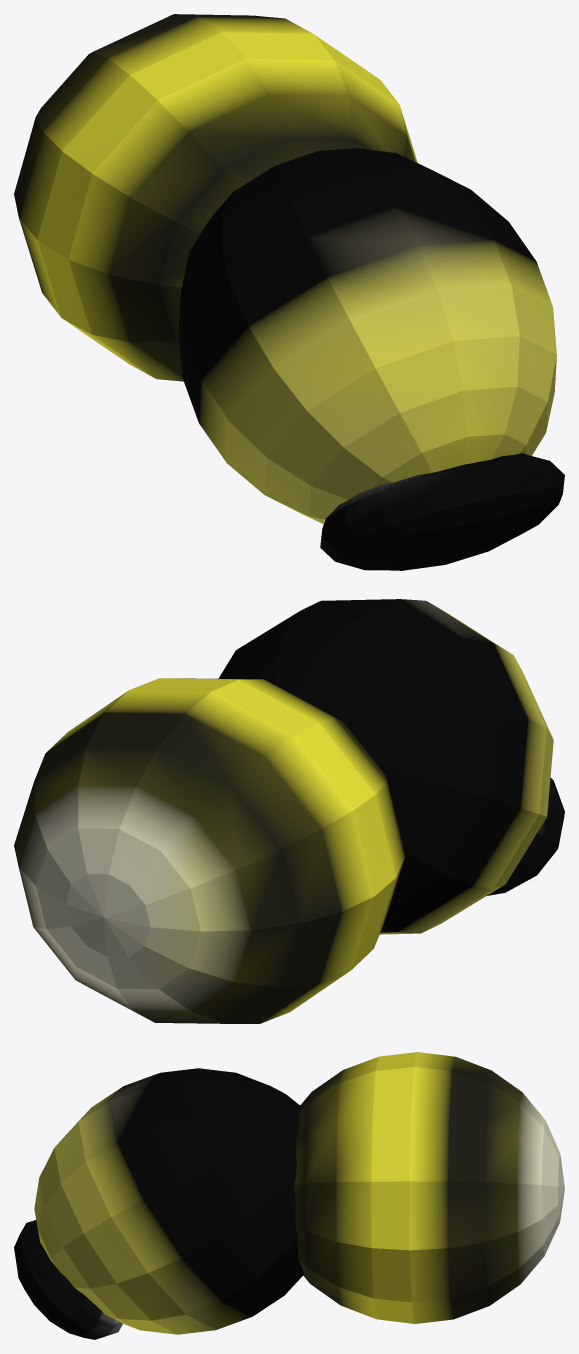
Rendered from bumblebee.glb.
The picture shows the model from 3 angles, top to bottom: view 1: azimuth 30°, elevation 25°; view 2: azimuth 150°, elevation 25°; view 3: azimuth 270°, elevation 25°; orthographic projection. The views are drawn at different scales.
Visible parts, largest first — view 1: Sphere UV 1, Sphere UV, Sphere; view 2: Sphere UV, Sphere UV 1, Sphere; view 3: Sphere UV, Sphere UV 1, Sphere.
Part boxes in pixels (left/top/right/bottom): Sphere UV 1: left=178, top=148, right=556, bottom=524; Sphere UV: left=14, top=14, right=417, bottom=381; Sphere: left=320, top=453, right=564, bottom=570; Sphere UV: left=14, top=678, right=404, bottom=1023; Sphere UV 1: left=218, top=599, right=553, bottom=934; Sphere: left=487, top=778, right=564, bottom=895; Sphere UV: left=294, top=1052, right=564, bottom=1323; Sphere UV 1: left=34, top=1068, right=304, bottom=1334; Sphere: left=14, top=1220, right=122, bottom=1339.
Size of the model in its own units: 0.2357 by 0.2302 by 0.4368.
